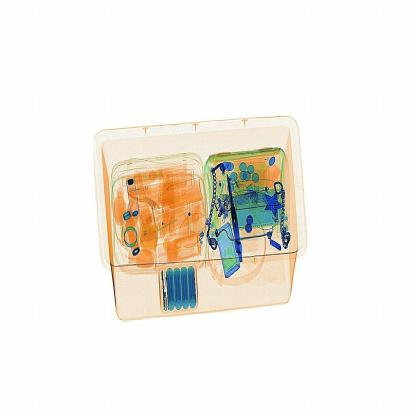gun: (217, 163, 252, 265)
